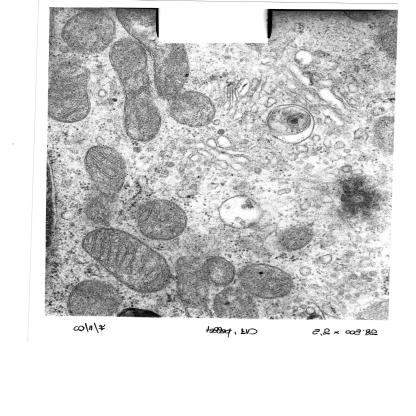mitochondria: (81, 226, 174, 294), (108, 37, 161, 144), (81, 145, 125, 224), (48, 59, 93, 124), (59, 11, 116, 53), (137, 199, 187, 241), (238, 263, 294, 300), (66, 280, 124, 315), (163, 90, 216, 128), (174, 254, 209, 309), (213, 287, 262, 317), (205, 255, 238, 287), (279, 224, 314, 252)
